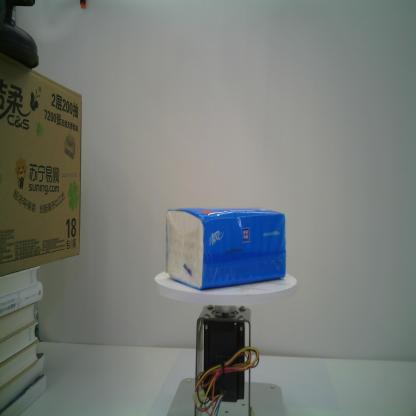Tissue: (166, 208, 286, 289)
